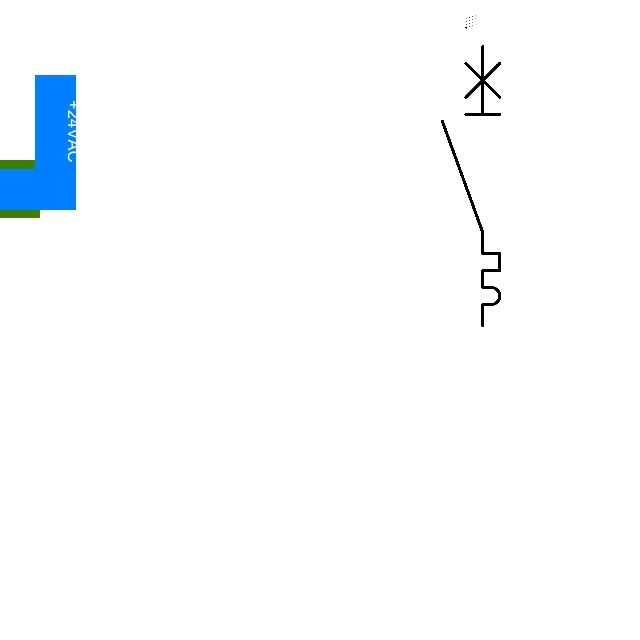interruptor_termomagnetico: (435, 39, 507, 333)
